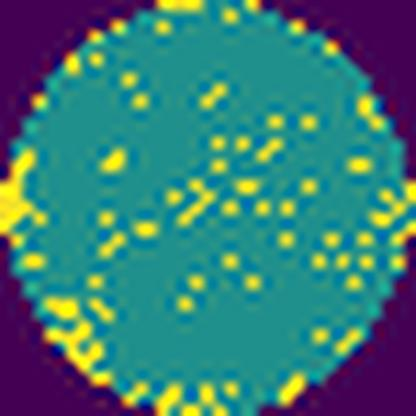Edge-Loc: (43, 315, 114, 386), (0, 150, 50, 250)
